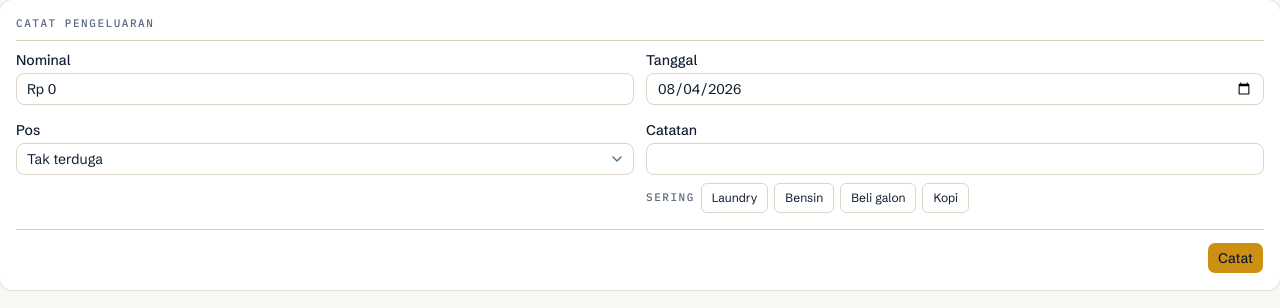
Test: the note suggestions › narrows to a suggestion that was tapped, and fills the field with it
The image size is (1280, 308).
Click the button "Bensin" at x=804, y=198, box [774,183,834,213]
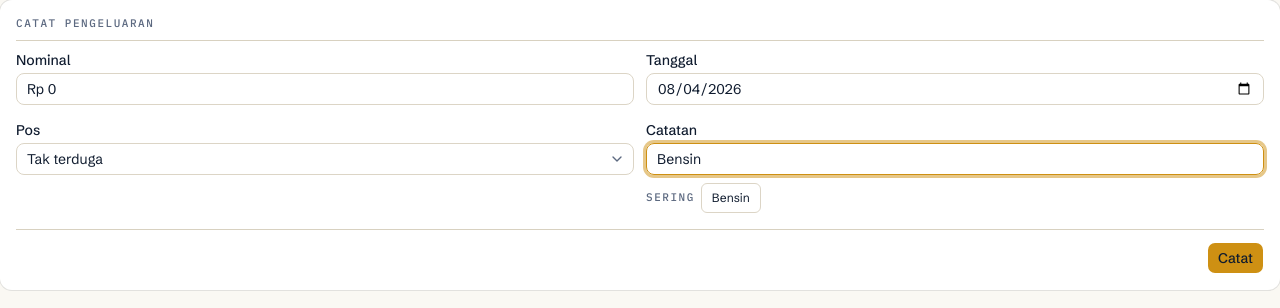
Check: the field labelled "Catatan" holds "Bensin", box [646,143,1264,175]
